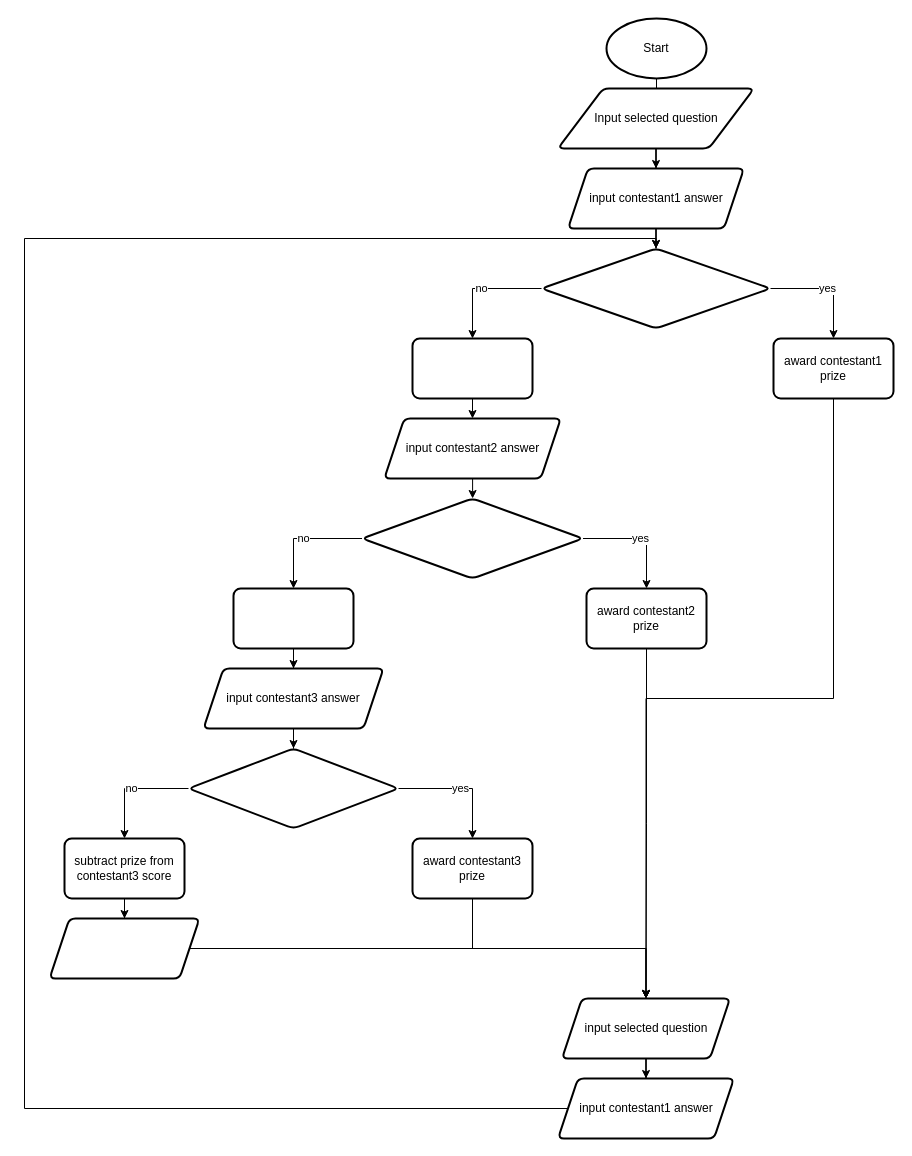
Image size: 912x1156. Some labels were removed from this diagram. The box of each missing label's shape, as (x1, y1, x2, y2) in pixels:
is contestant1 answer correct?: (540, 247, 771, 329)
is contestant2 answer correct?: (360, 497, 584, 579)
is contestant3 answer correct?: (187, 747, 399, 829)
output correct answer: (48, 917, 200, 979)
subtract prize from contestant1 score: (411, 337, 533, 399)
subtract prize from contestant2 score: (232, 587, 354, 649)
